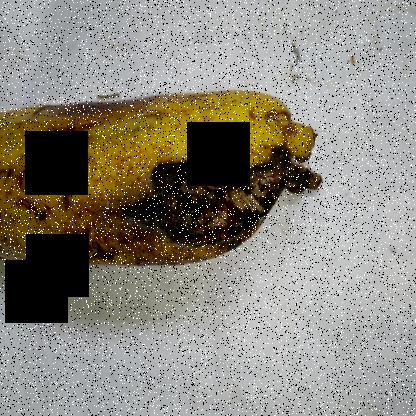ripe: (0, 98, 146, 285)
rotten: (97, 117, 314, 268), (30, 63, 160, 129)
